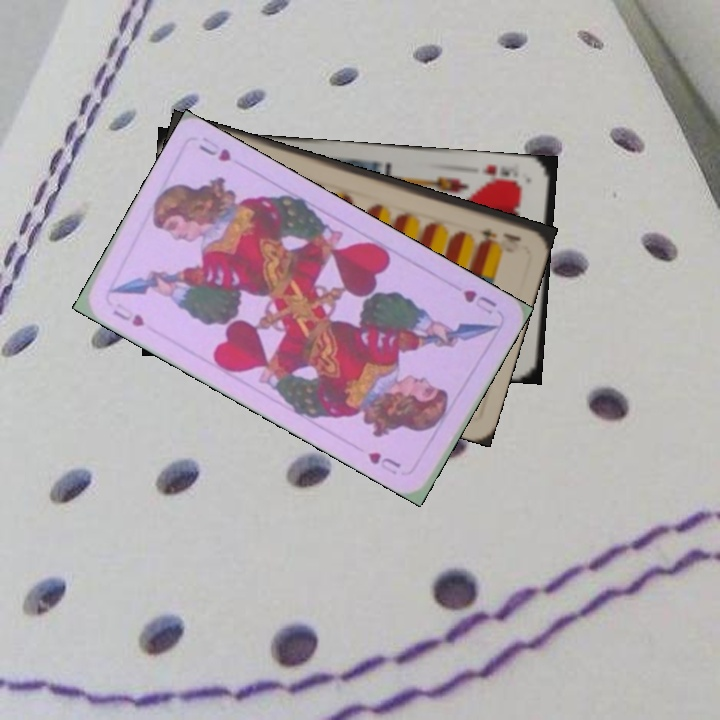E10: (474, 224, 523, 247)
HK: (478, 160, 525, 188)
HU: (459, 285, 500, 317), (108, 302, 147, 330)
